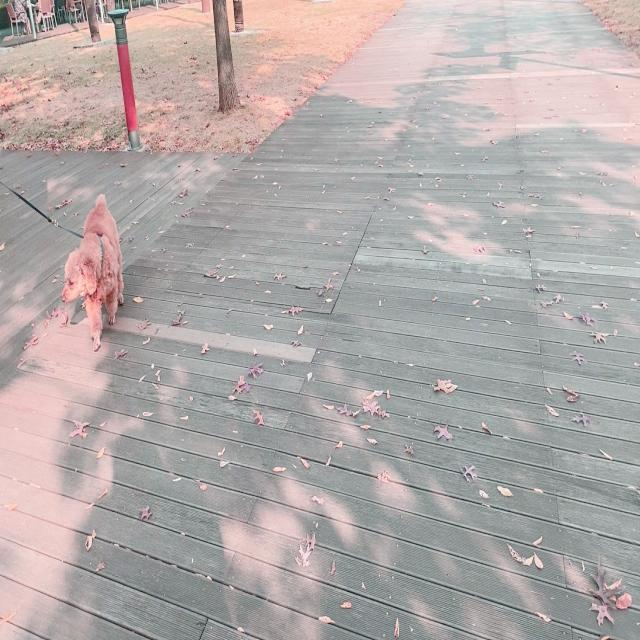Dog: (61, 192, 126, 353)
